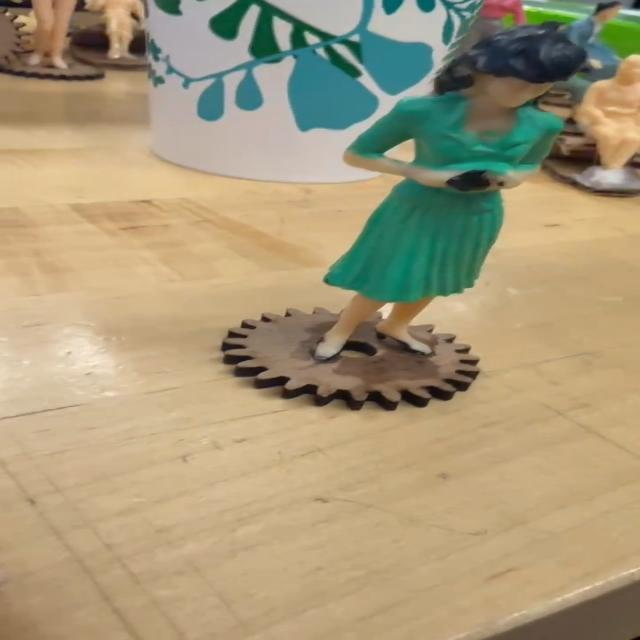Authorized: (297, 21, 610, 374)
